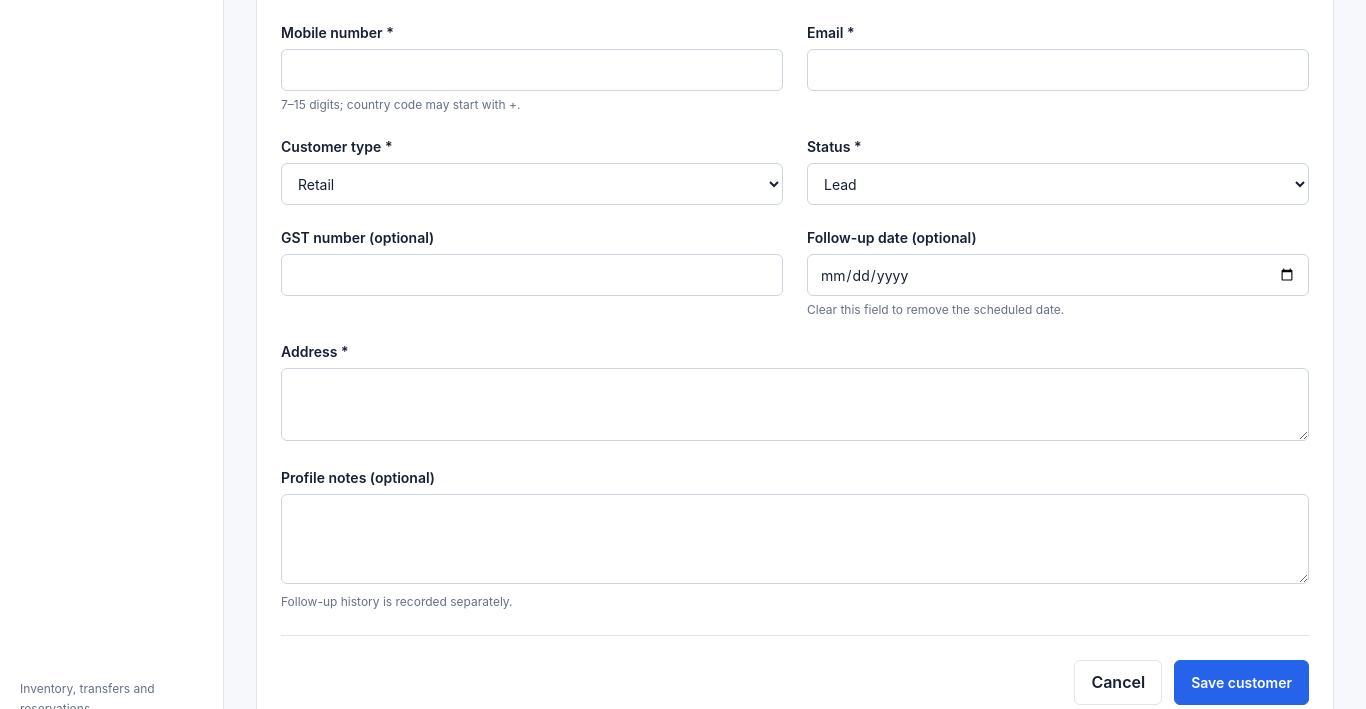
Test case: customer forms and history › validates required inputs and creates a customer through the API
(page scrolled)
Click the button "Save customer".
click(1242, 683)  # box [1174, 660, 1309, 705]
(page scrolled)
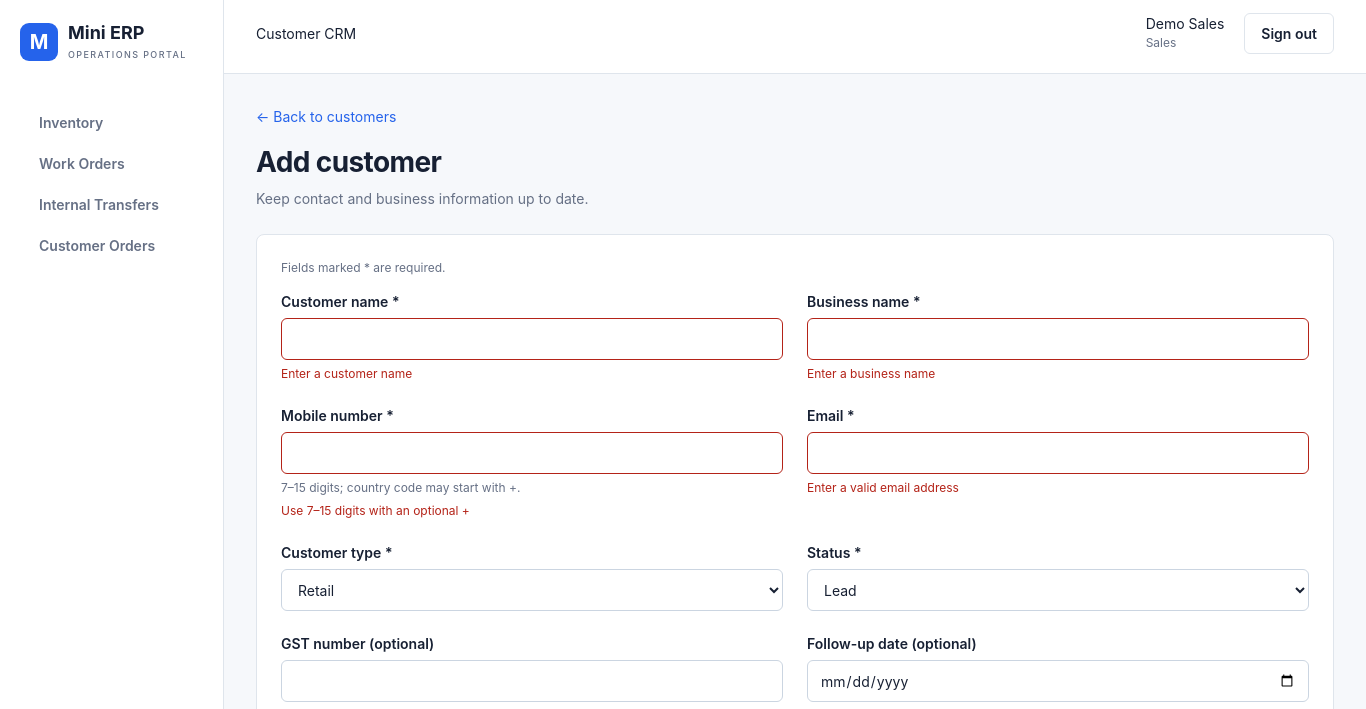
Result: the text "Enter a customer name" is shown at [281, 366, 412, 381]
Type "Asha Shah" into the field labelled "Customer name *".
click(532, 339); type("Asha Shah")  # box [281, 318, 783, 360]
Type "Asha Wholesale" into the field labelled "Business name *".
click(1058, 339); type("Asha Wholesale")  # box [807, 318, 1309, 360]
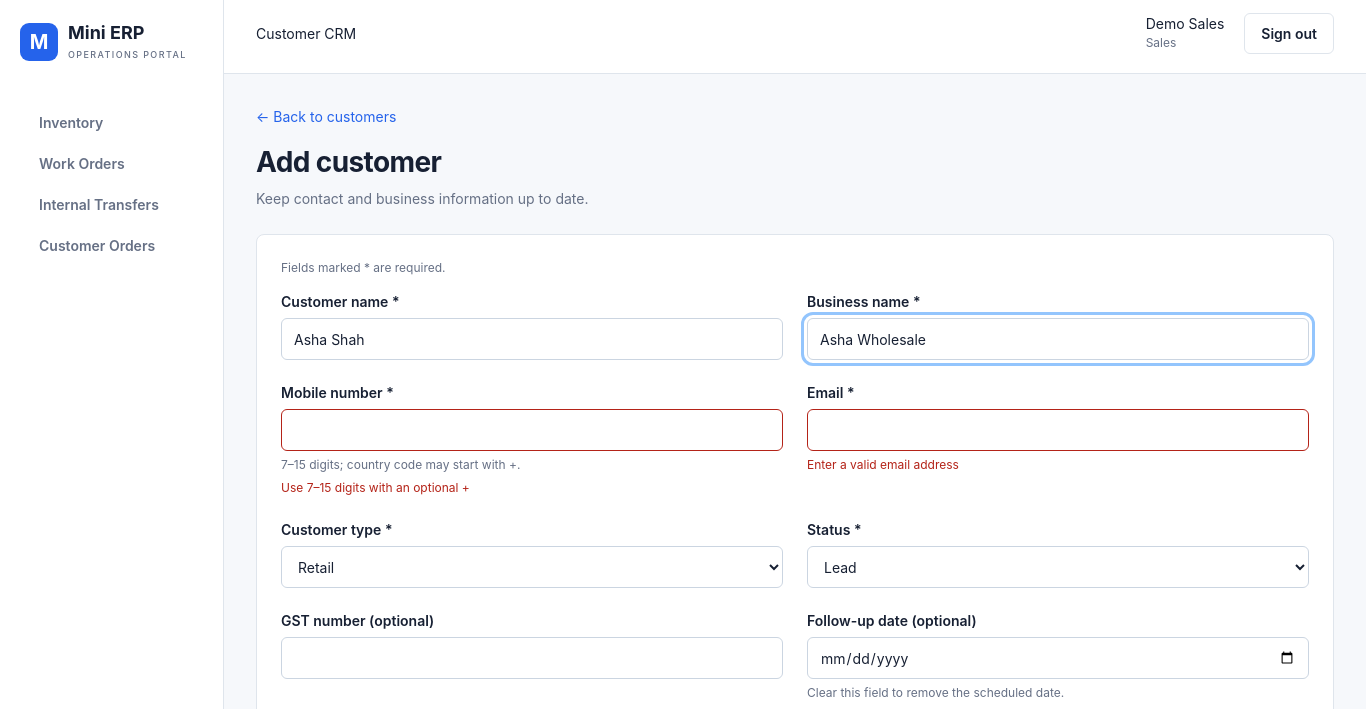
Type "+919876543210" into the field labelled "Mobile number *".
click(532, 430); type("+919876543210")  # box [281, 409, 783, 451]
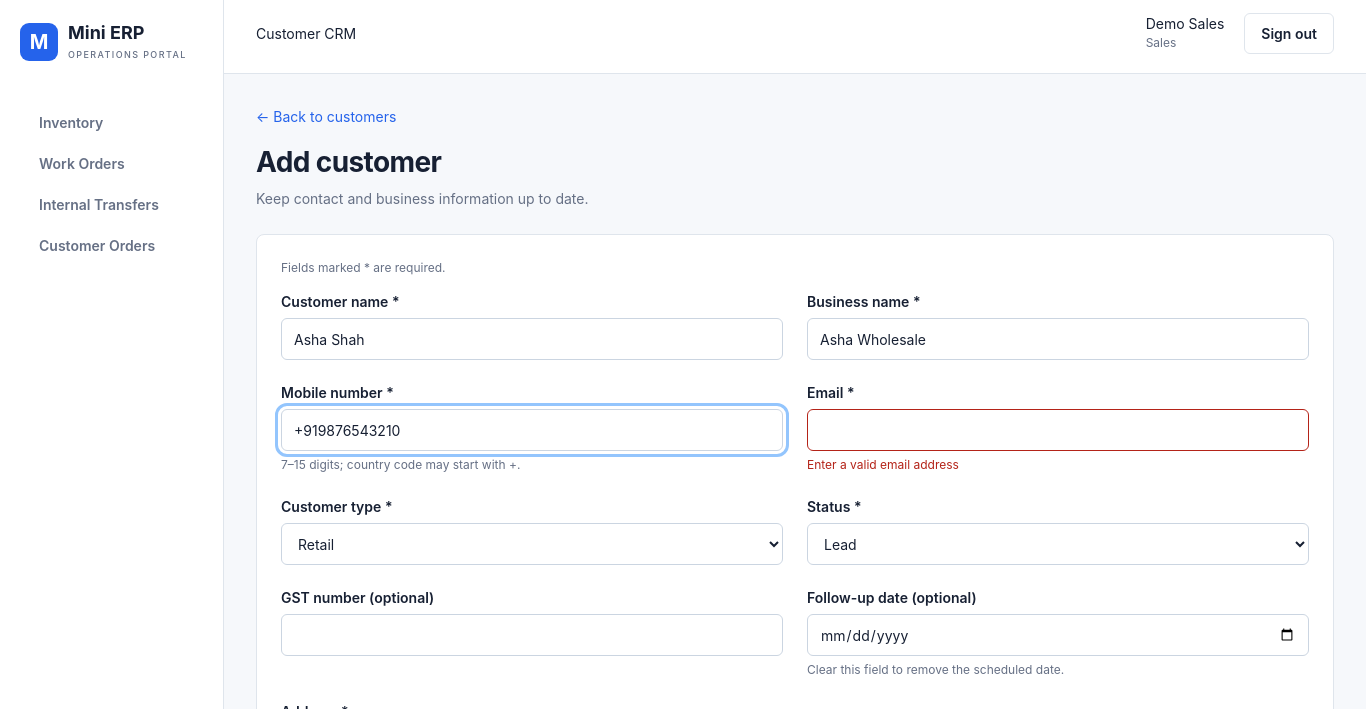
Type "asha@example.com" into the field labelled "Email *".
click(1058, 430); type("asha@example.com")  # box [807, 409, 1309, 451]
(page scrolled)
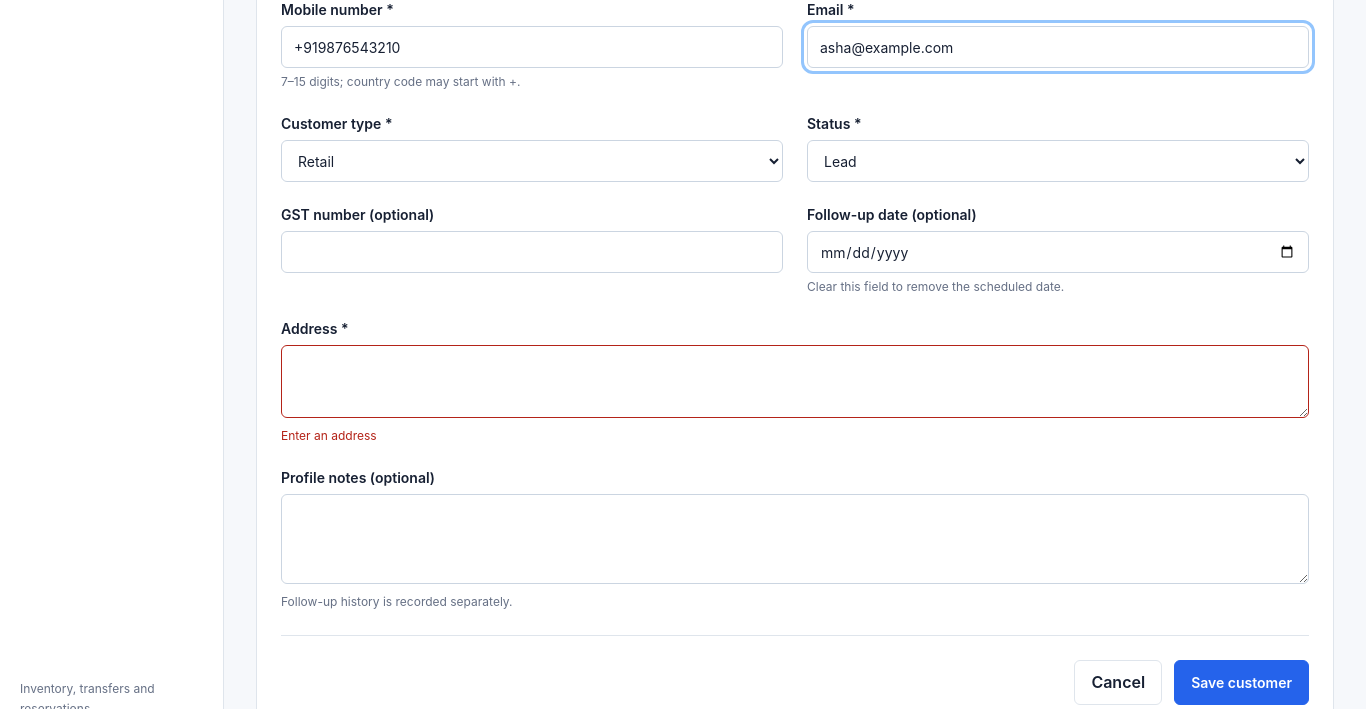
Type "12 Market Road" into the text box labelled "Address *".
click(795, 382); type("12 Market Road")  # box [281, 345, 1309, 418]
(page scrolled)
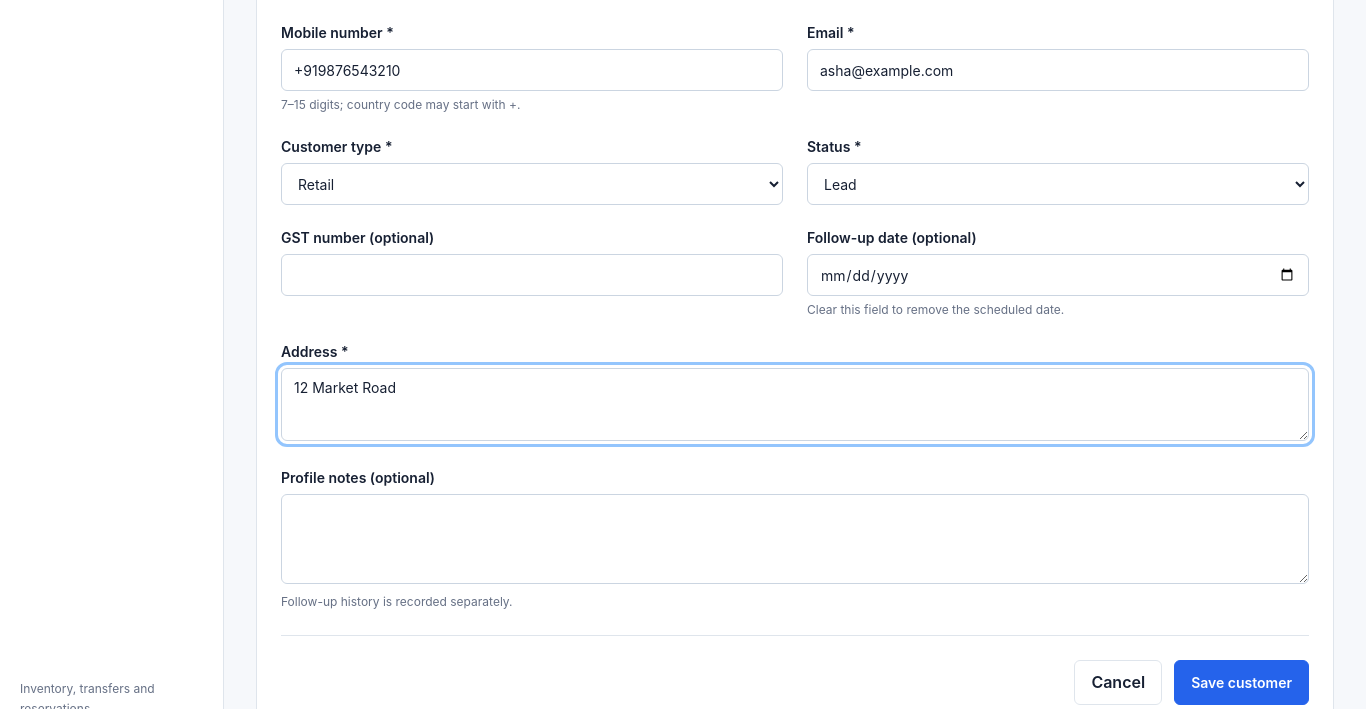
Click the button "Save customer".
click(1242, 683)  # box [1174, 660, 1309, 705]
(page scrolled)
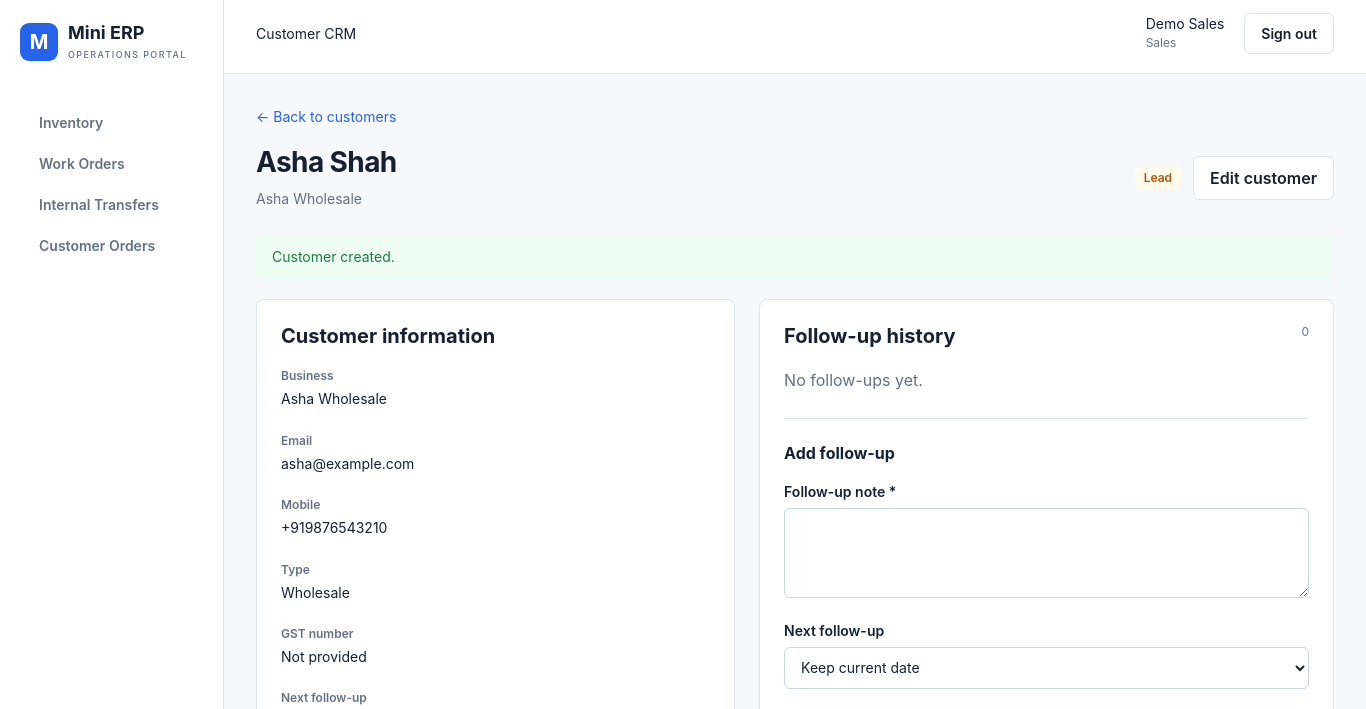
Result: the text "Customer created." is shown at [256, 234, 1334, 279]
